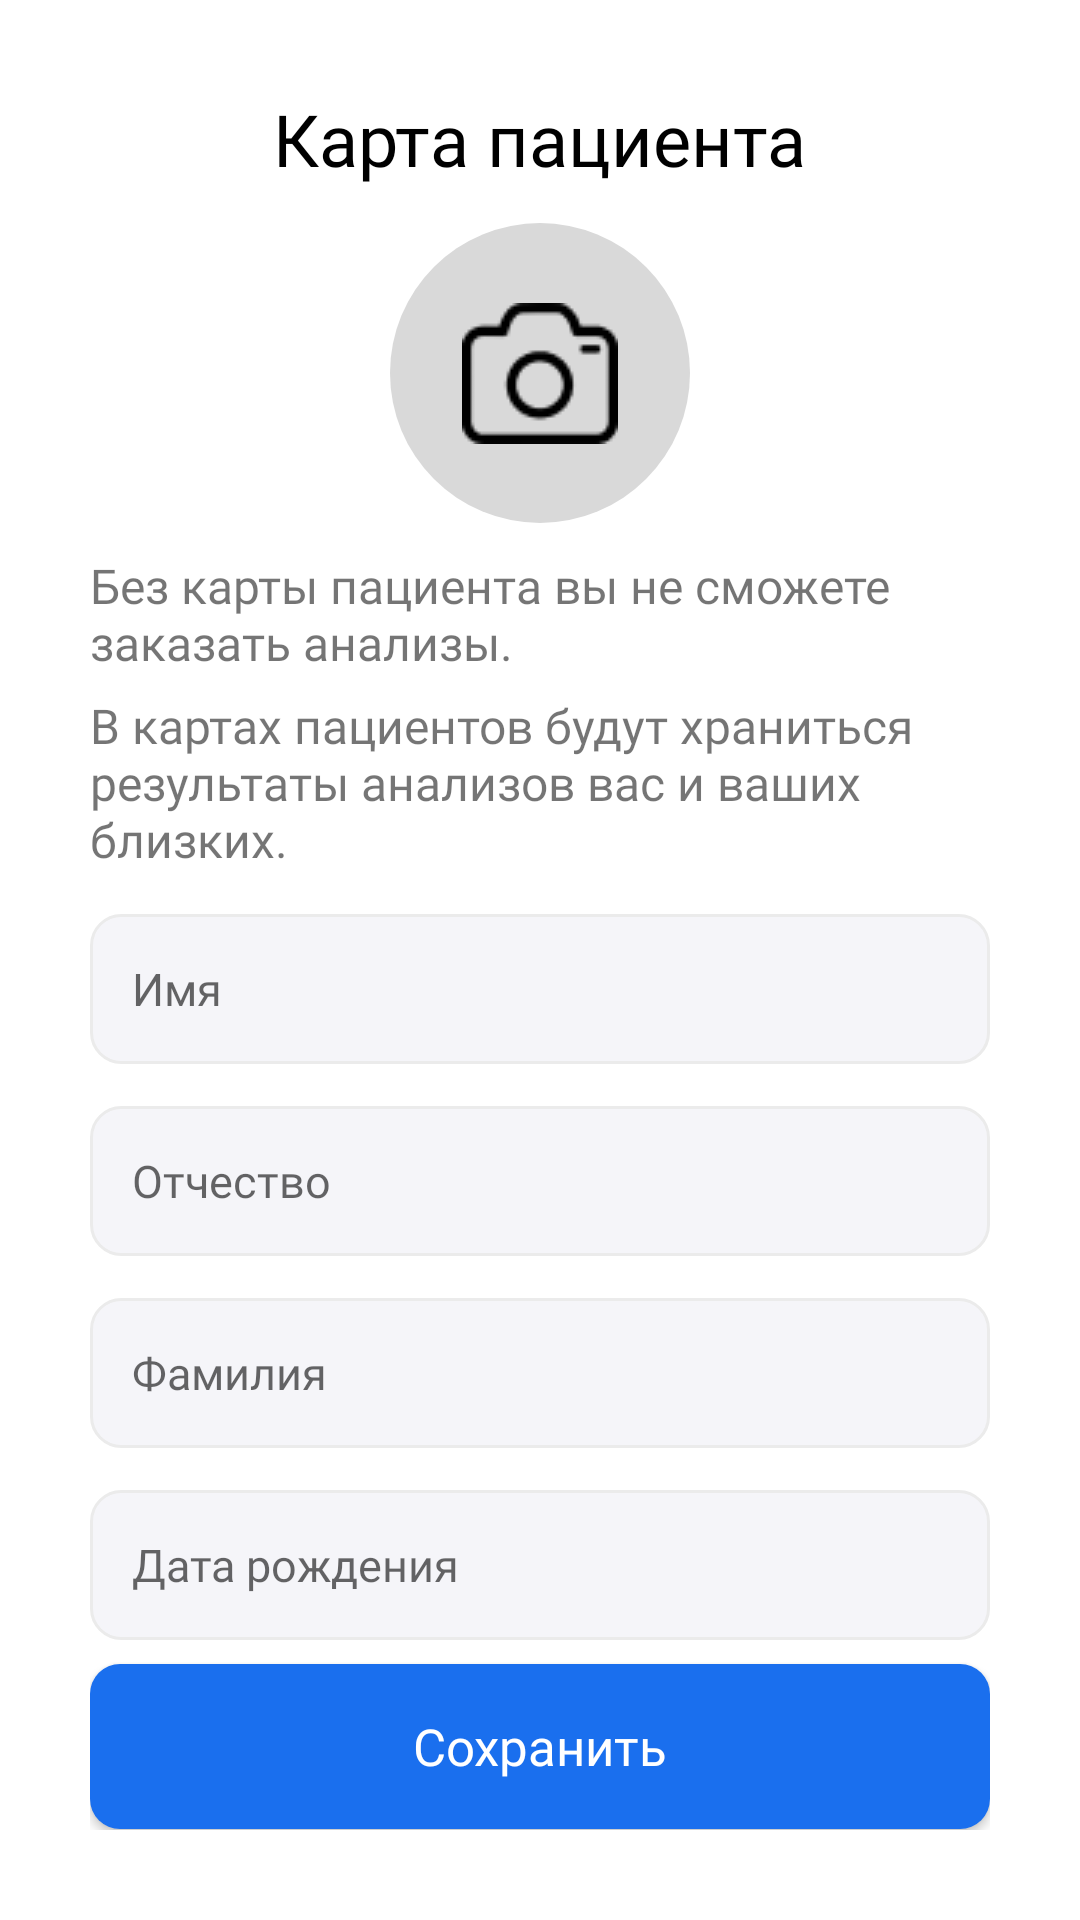

Screen size 1080 × 1920. Icon name, then its center in pixels as point (x, y):
cam: point (540, 373)
